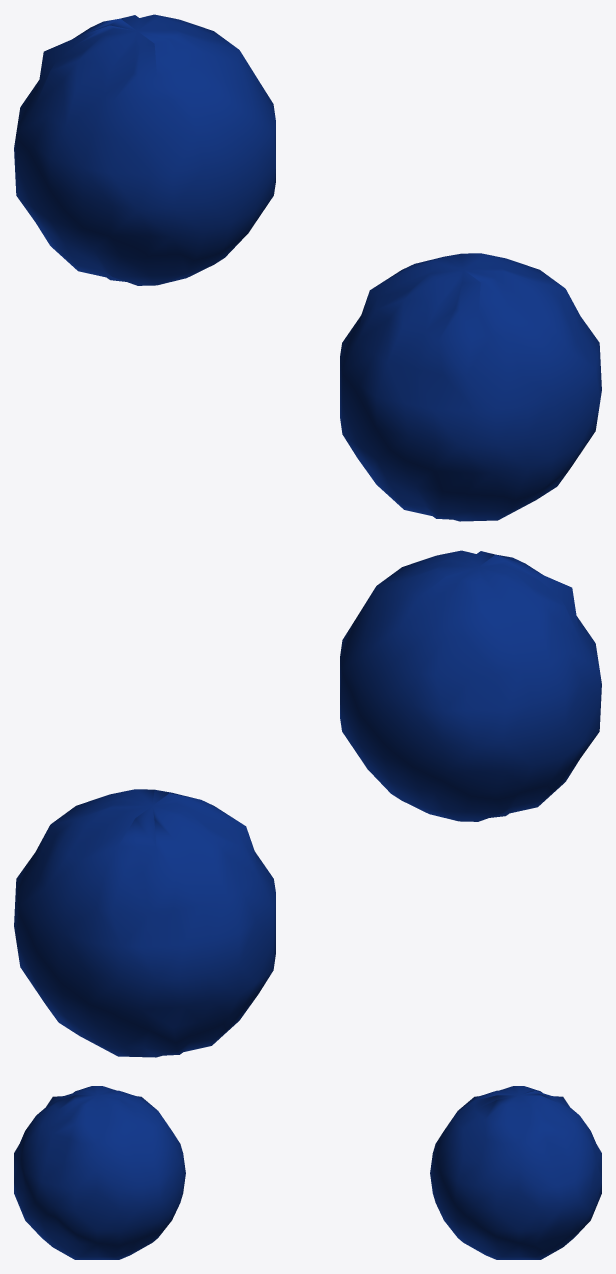
Rendered from frog_eyes.obj.
3 renders of one model, top to bottom at view 1: azimuth 30°, elevation 25°; view 2: azimuth 150°, elevation 25°; view 3: azimuth 270°, elevation 25°, orthographic. The views are drawn at different scales.
Visible parts, largest first — view 1: polySurface26_Object1, Object1_polySurface9; view 2: Object1_polySurface9, polySurface26_Object1; view 3: Object1_polySurface9, polySurface26_Object1.
Part boxes in pixels (<box>): polySurface26_Object1: <box>14,14,275,285</box>; Object1_polySurface9: <box>340,253,601,521</box>; Object1_polySurface9: <box>340,550,601,821</box>; polySurface26_Object1: <box>14,789,275,1057</box>; Object1_polySurface9: <box>14,1086,185,1259</box>; polySurface26_Object1: <box>430,1086,601,1259</box>.
Size of the model in its own units: 1.17 by 1.21 by 4.14.
